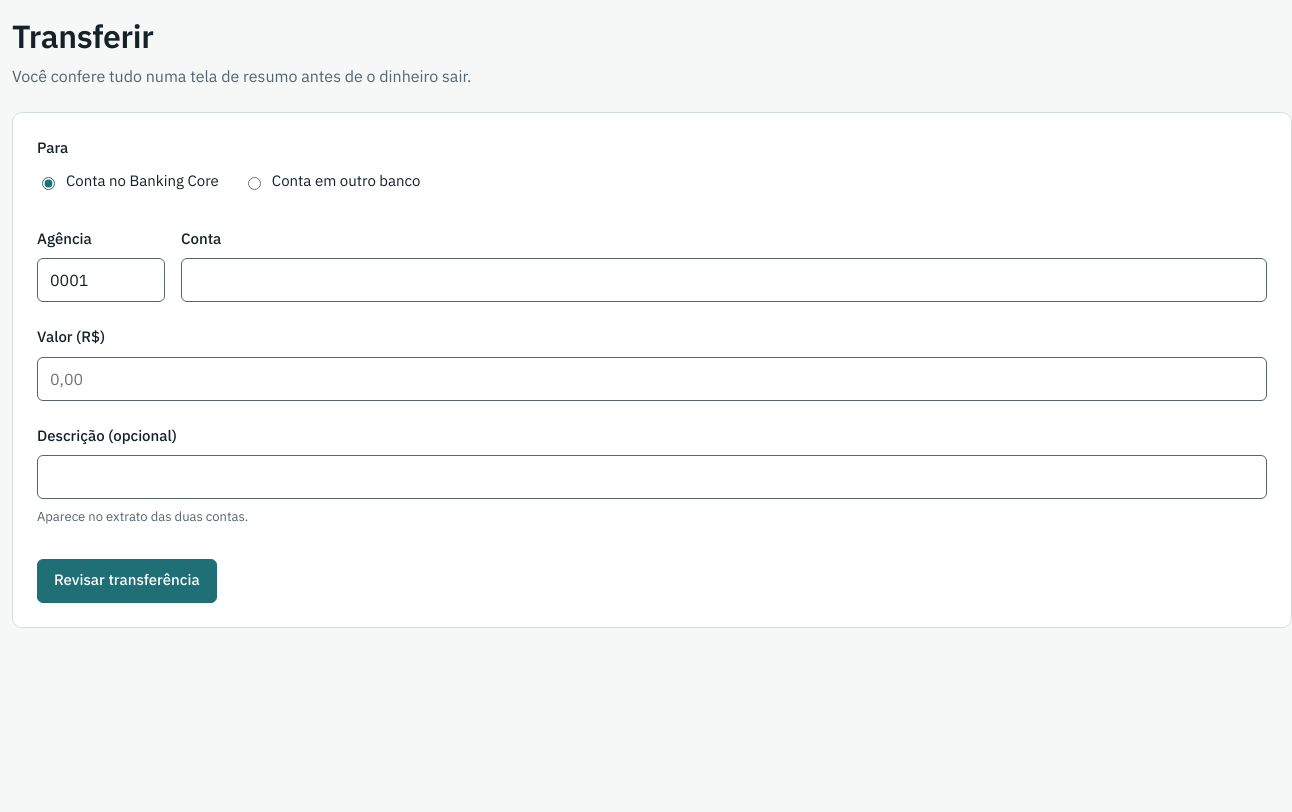
Test case: Transferir › conta de destino inexistente para no formulário
In the field labelled "Conta": x=724, y=280 [181,258,1267,302], type "2"
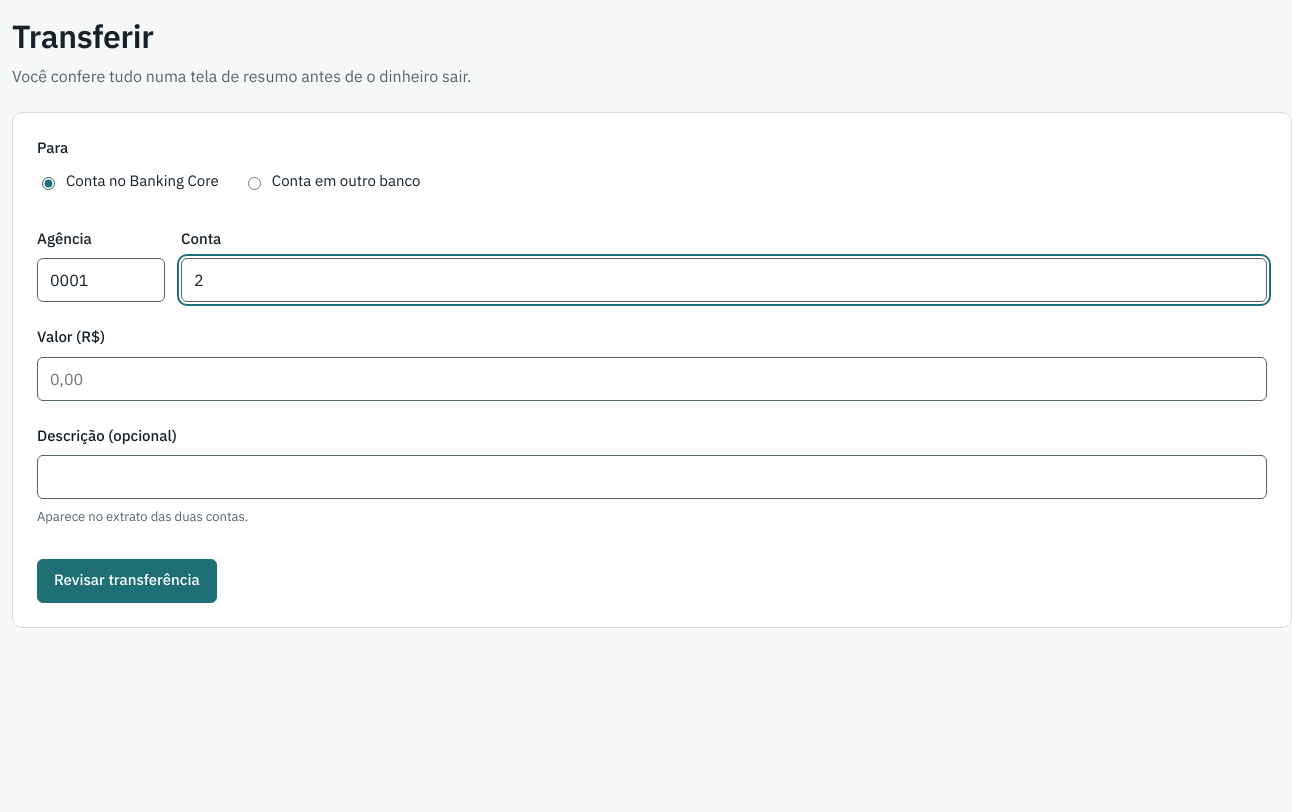
In the field labelled "Valor (R$)": x=652, y=378 [37,356,1267,400], type "1.234,50"
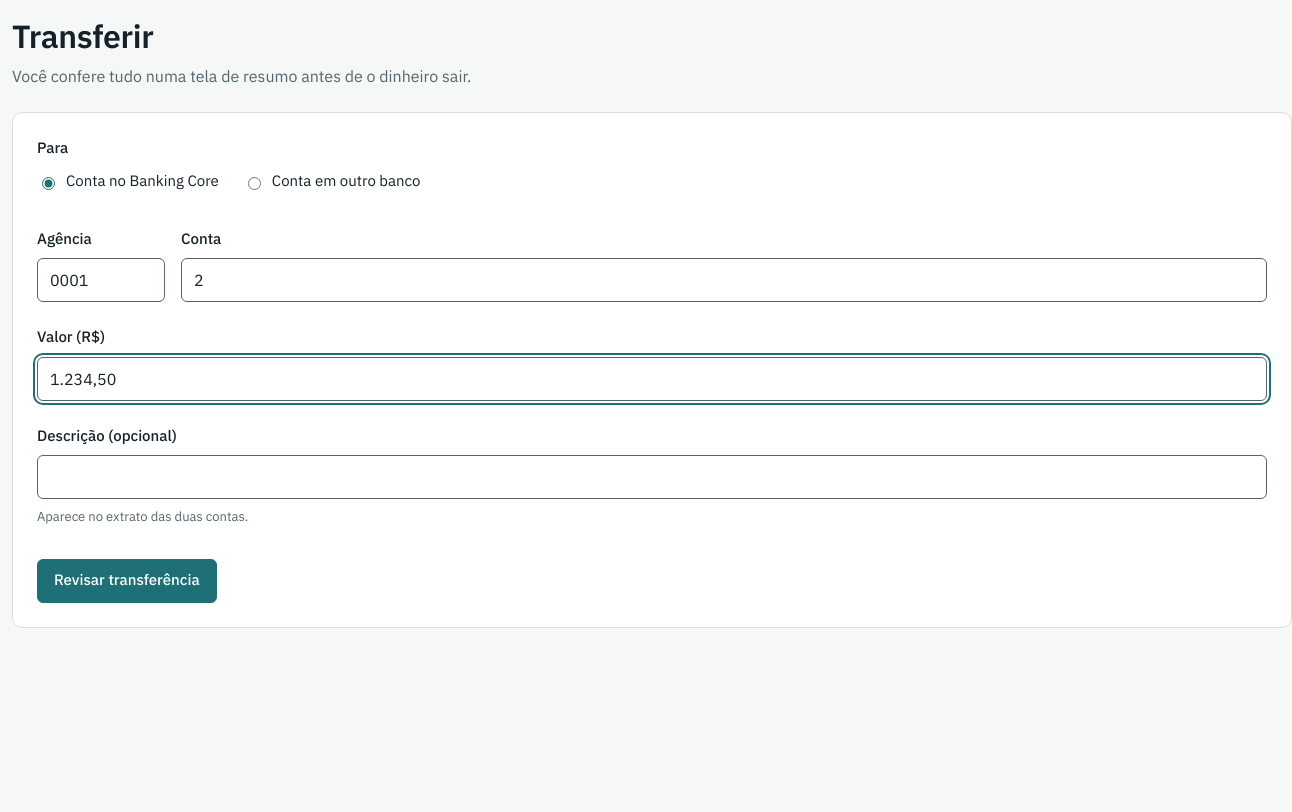
Click the button "Revisar transferência": x=127, y=580 [37,558,217,602]
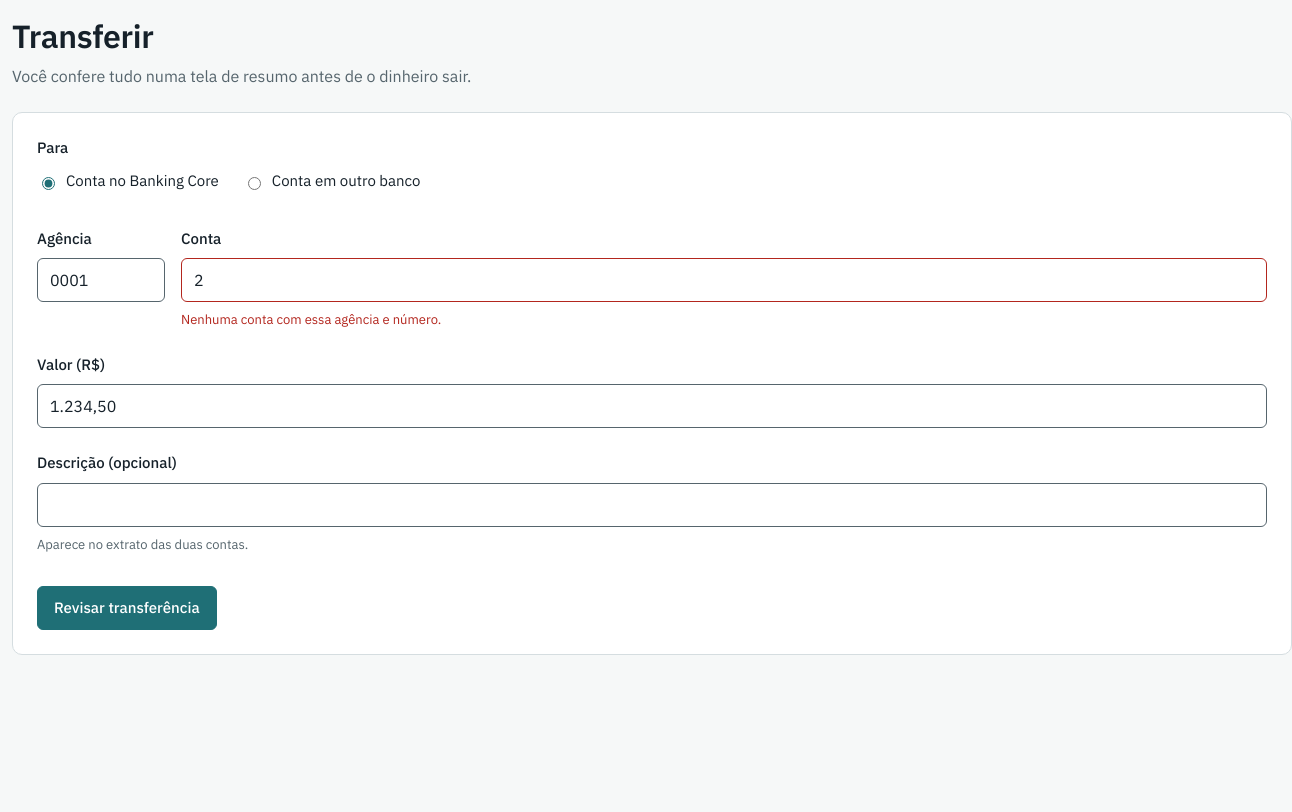
Expected: the text "Nenhuma conta com essa agência e número." is shown, [181,311,441,328]
